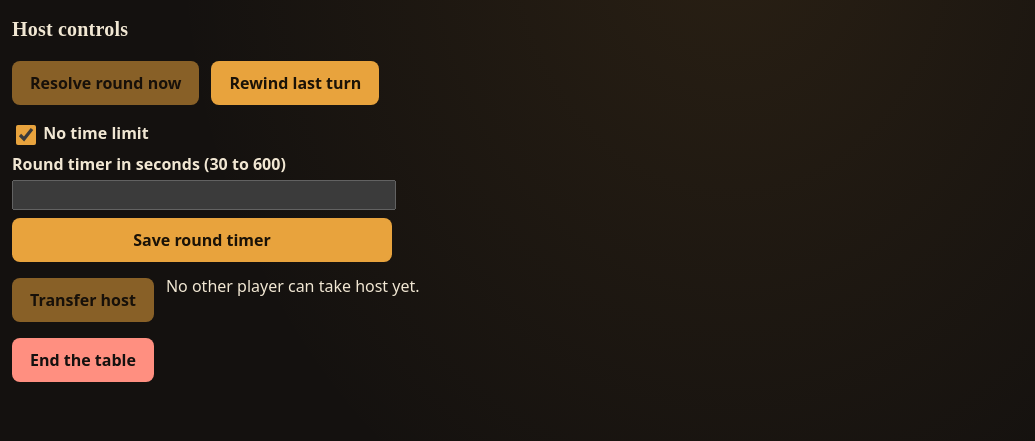
Test: HostControls › clamps an out-of-range timer to 30 s and says so
The image size is (1035, 441).
Click the checkbox labelled "No time limit". click: (26, 135)
box: x1=16 y1=125 x2=36 y2=145
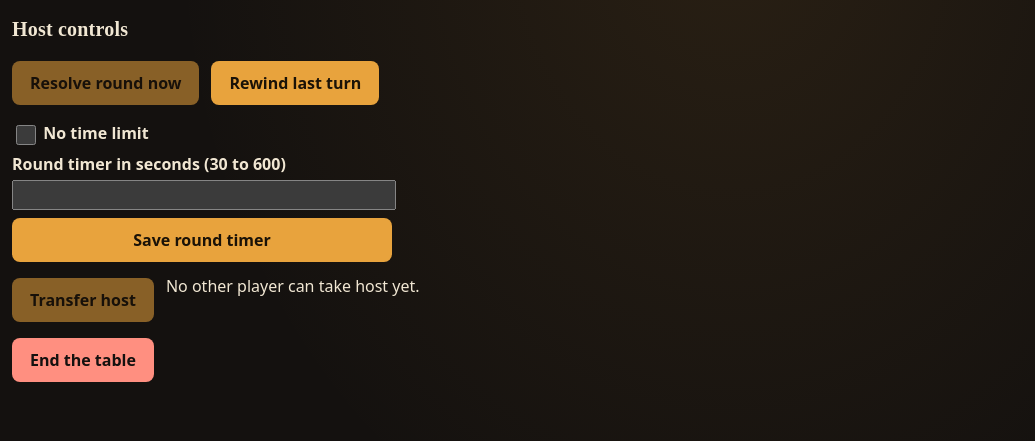
Type "5" into the number field labelled "Round timer in seconds (30 to 600)". click: (204, 195)
box: x1=12 y1=180 x2=396 y2=210
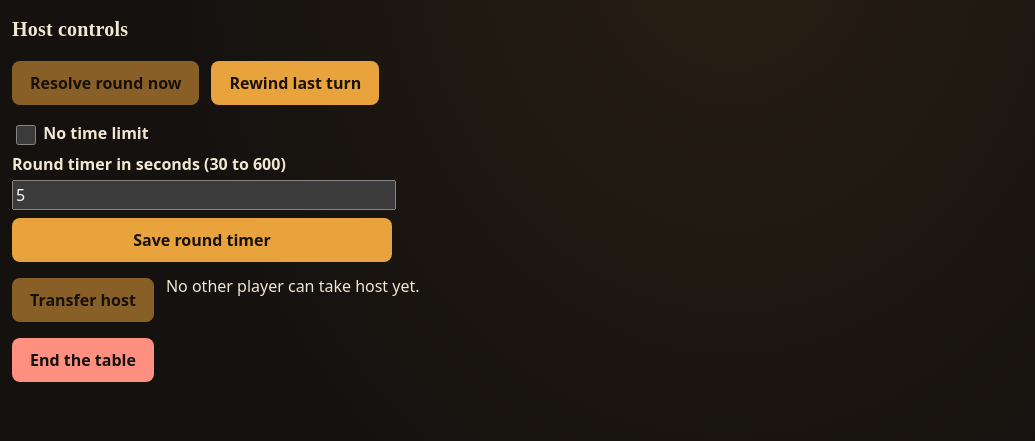
Click the button "Save round timer". click: (202, 240)
box: x1=12 y1=218 x2=392 y2=262
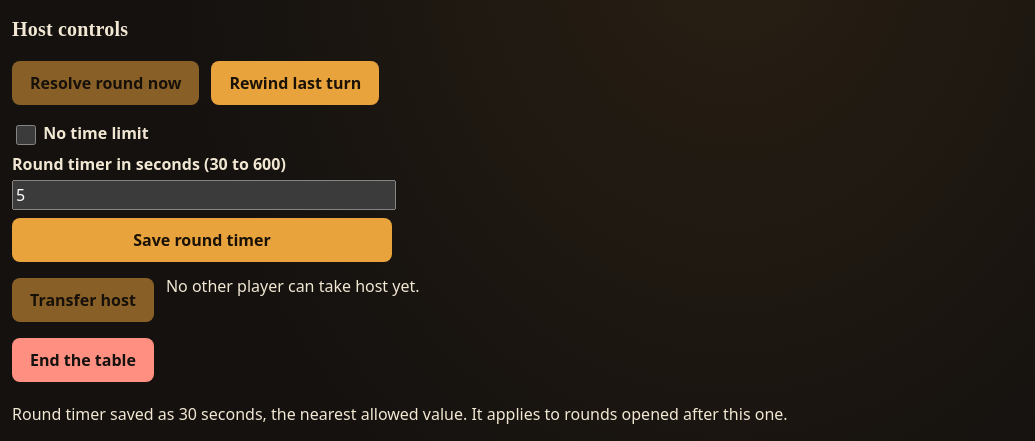
Check: the message shows "30 seconds", box x1=12 y1=403 x2=788 y2=425
